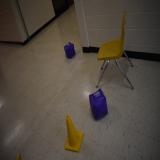cone: (65, 115, 84, 152), (16, 152, 22, 160)
cube: (89, 88, 108, 120), (64, 41, 75, 60)
